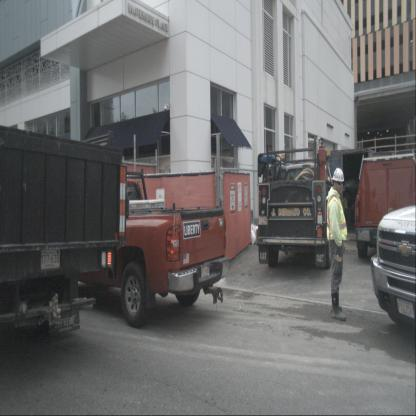vehicle-car: (34, 168, 230, 328), (354, 153, 416, 260)
vehicle-truck: (0, 125, 129, 346), (256, 137, 340, 270)
